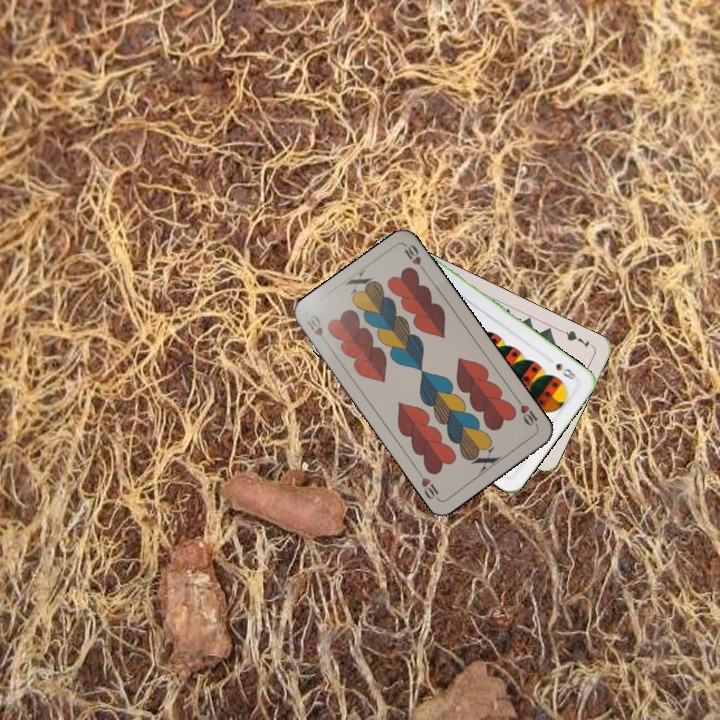G7: (558, 326, 596, 350)
H10: (302, 311, 331, 348), (512, 395, 541, 430)
S8: (552, 359, 581, 382)
